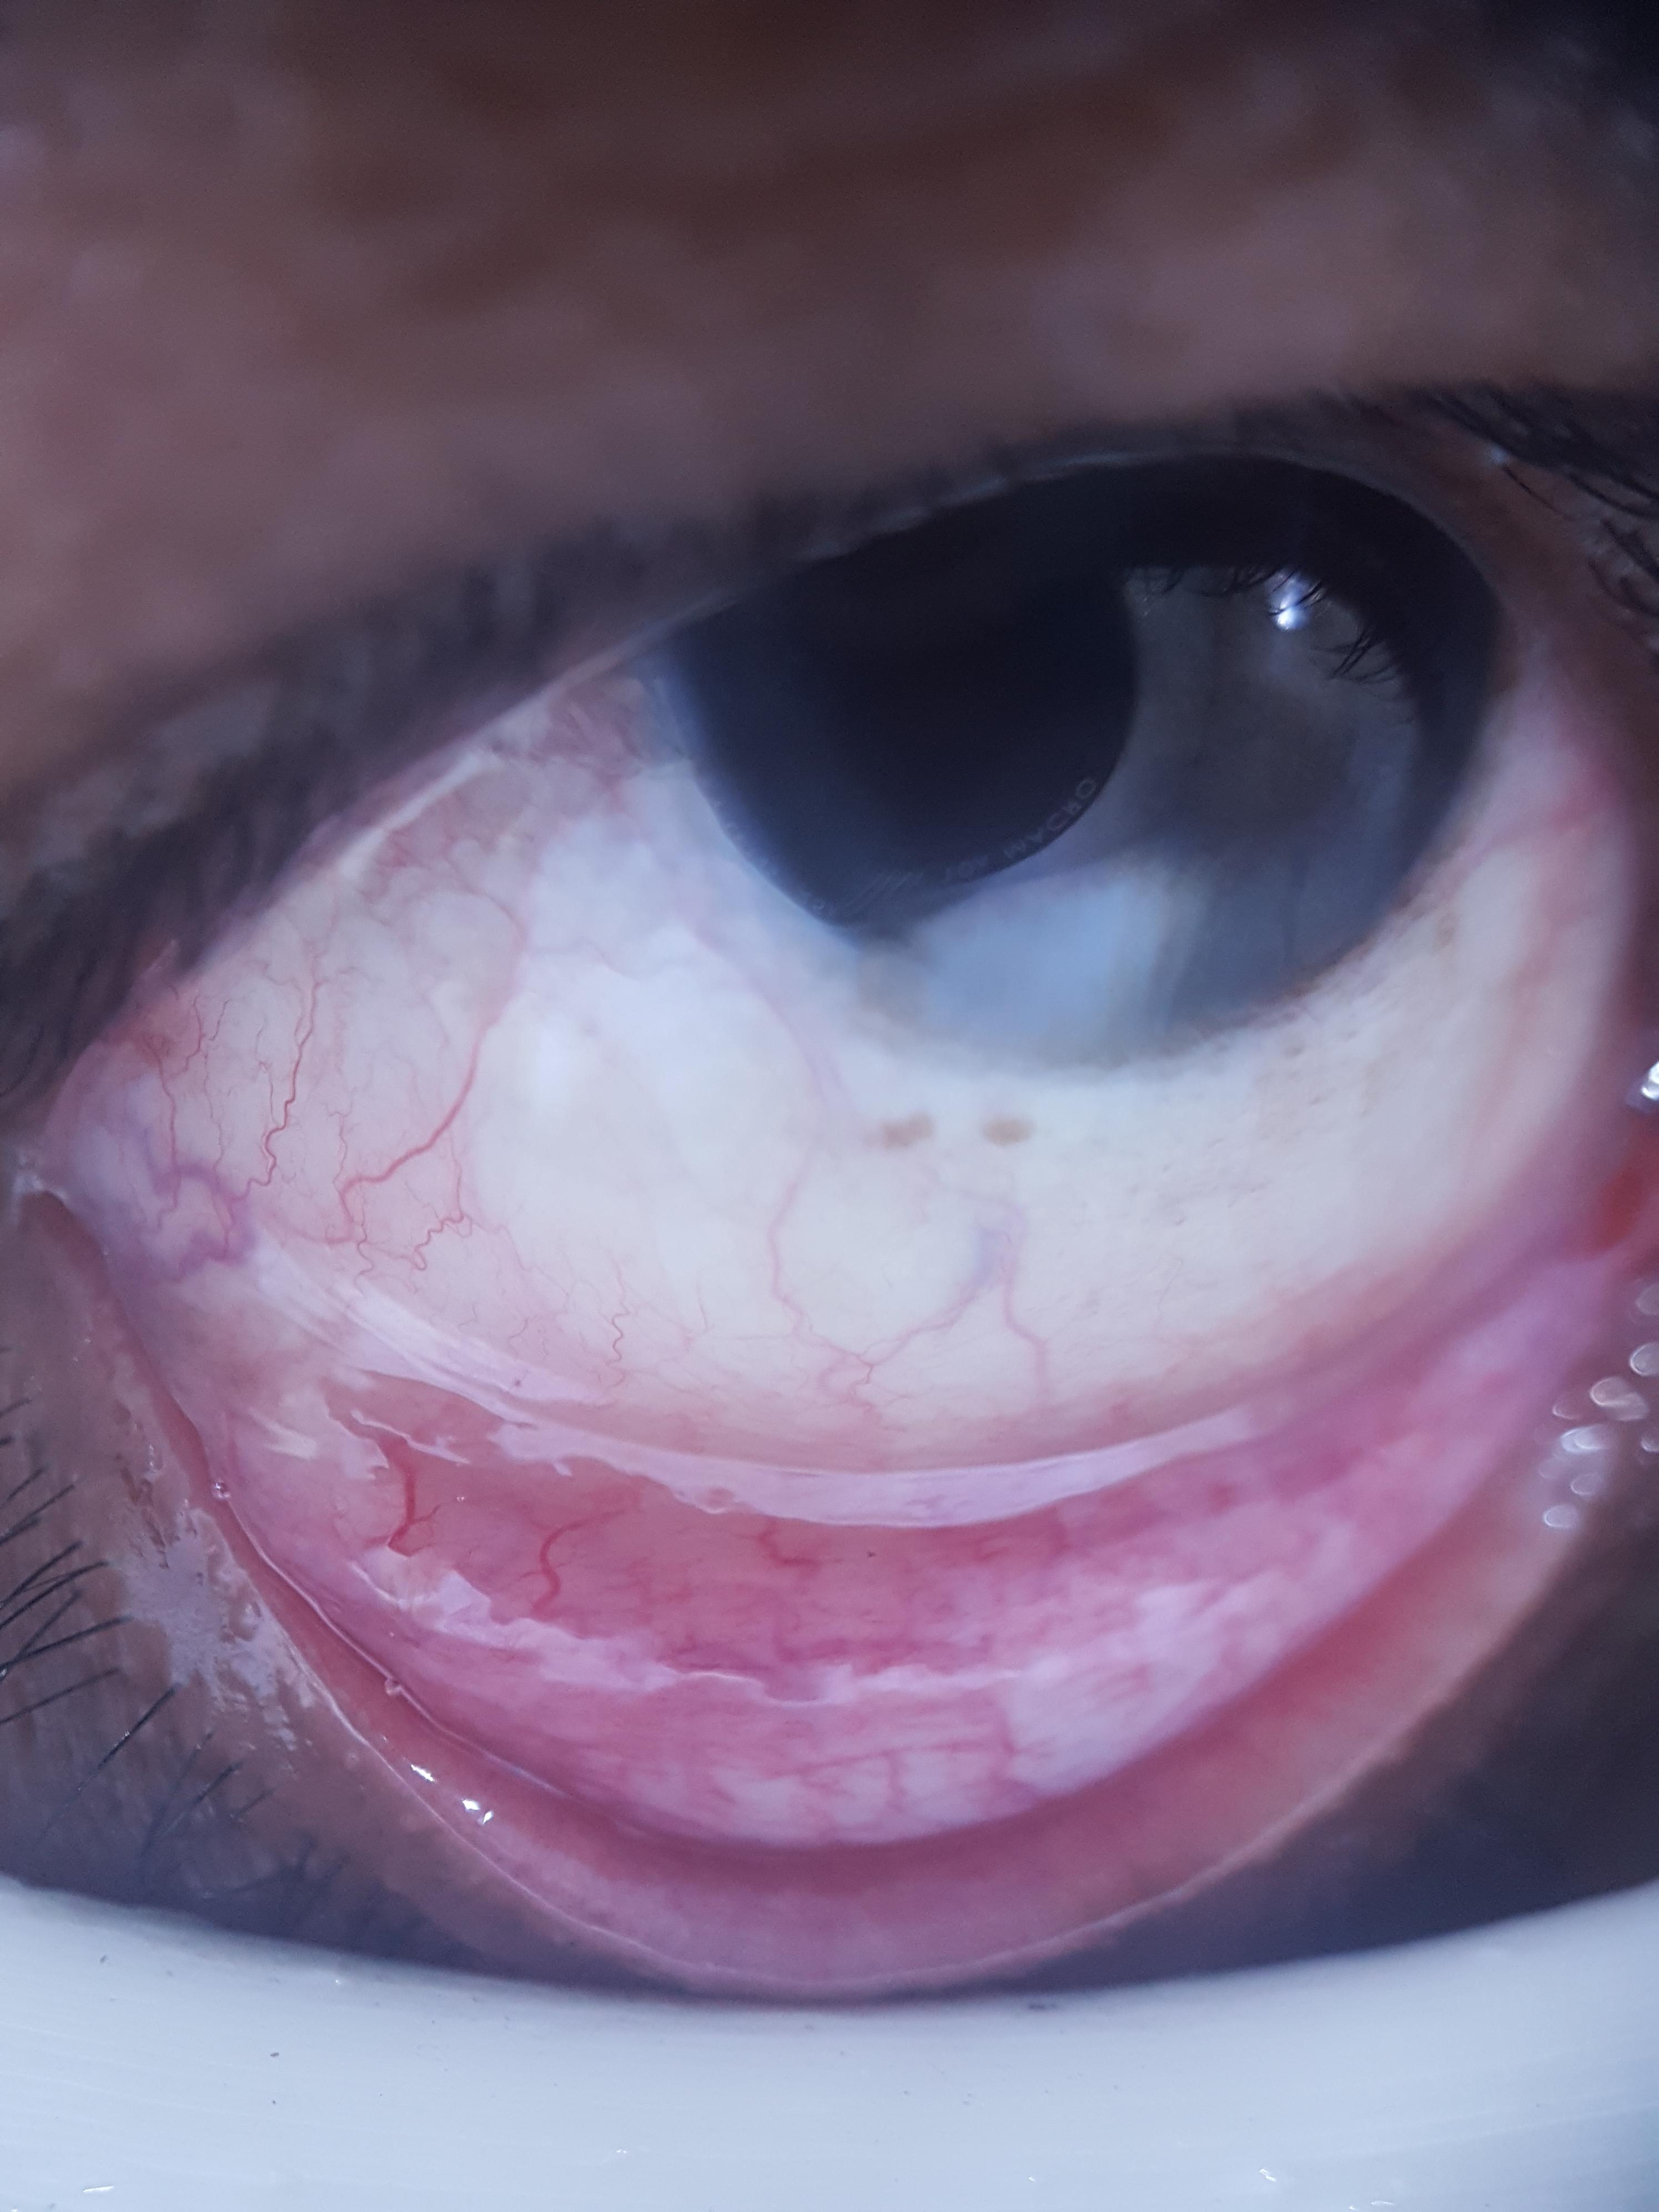forniceal: (146, 1258, 1601, 1841)
forniceal_palpebral: (132, 1247, 1610, 1916)
palpebral: (286, 1494, 1490, 1905)
